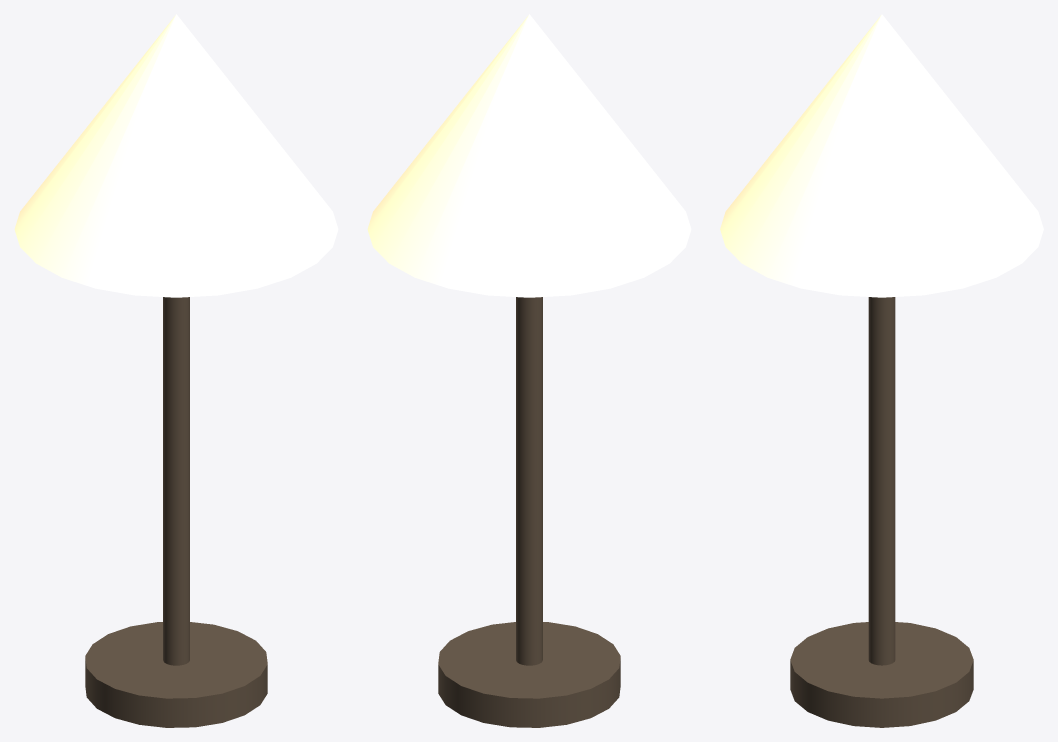
The model's file is lamp-warm-01.glb.
The picture shows the model from 3 angles, left to right: view 1: azimuth 30°, elevation 25°; view 2: azimuth 150°, elevation 25°; view 3: azimuth 270°, elevation 25°; orthographic projection.
Visible parts, largest first — view 1: shade, base, stem; view 2: shade, base, stem; view 3: shade, base, stem.
Boxes of the visible parts, x1,y1,x2,y2 form: shade: [14, 14, 338, 297]; base: [85, 622, 267, 727]; stem: [163, 297, 189, 665]; shade: [367, 14, 691, 297]; base: [438, 622, 620, 727]; stem: [516, 297, 542, 665]; shade: [720, 14, 1043, 297]; base: [790, 622, 973, 727]; stem: [868, 297, 895, 665].
Bounding box in the file's own units: 0.6 × 1.38 × 0.6.
